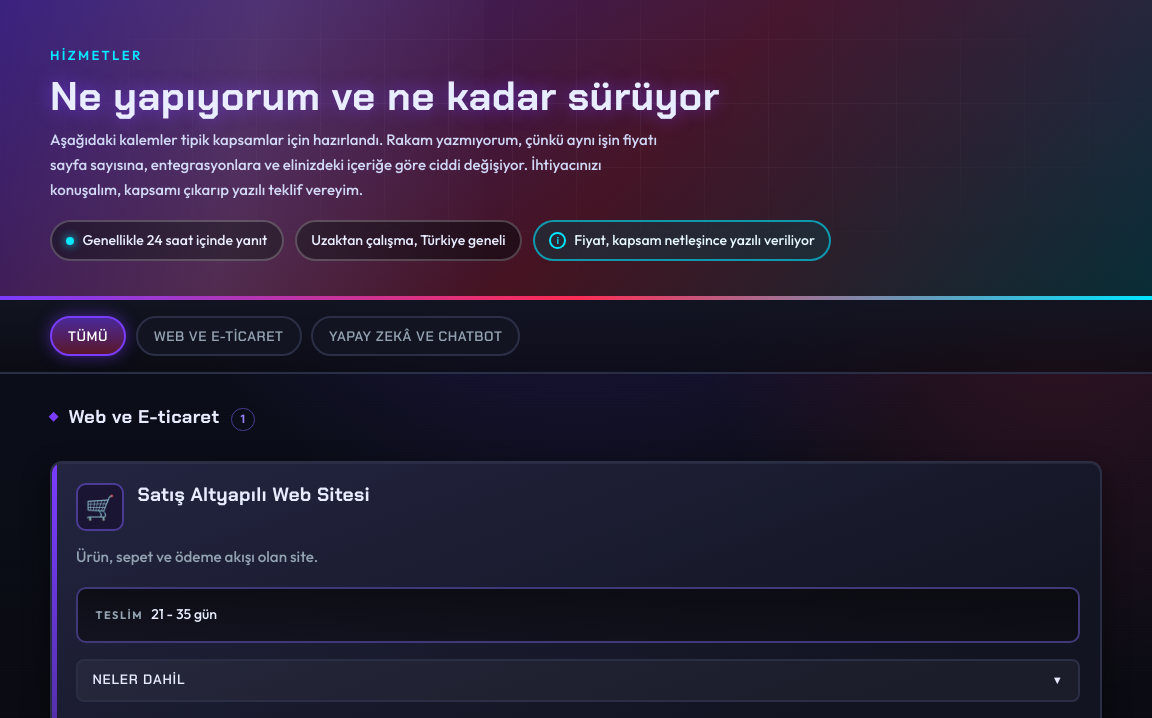
Test: ServicesList › kategori filtresi sadece seçili kategoriyi bırakır
What coordinates should you click on to do the following:
click the button "Yapay Zekâ ve Chatbot"
I would click on:
 (416, 336)
Its box is x1=311 y1=316 x2=520 y2=356.
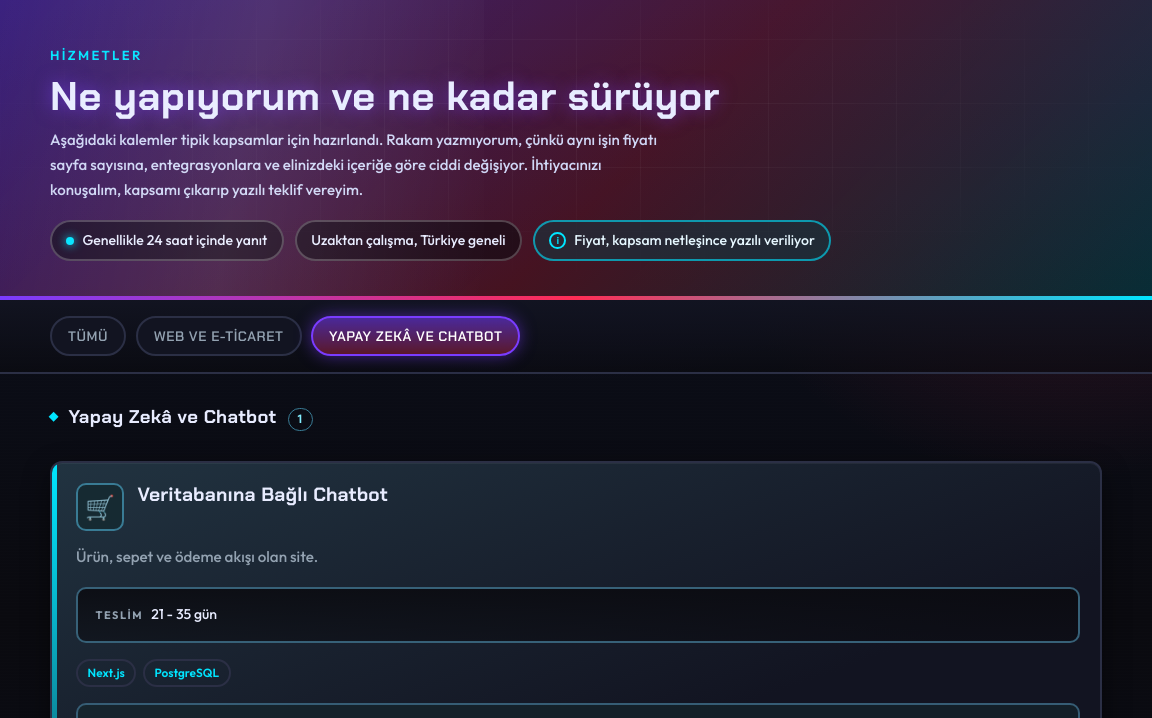
expect the heading "Veritabanına Bağlı Chatbot" is shown: met, box x1=138 y1=483 x2=388 y2=507
expect the heading "Satış Altyapılı Web Sitesi" is gone: met
